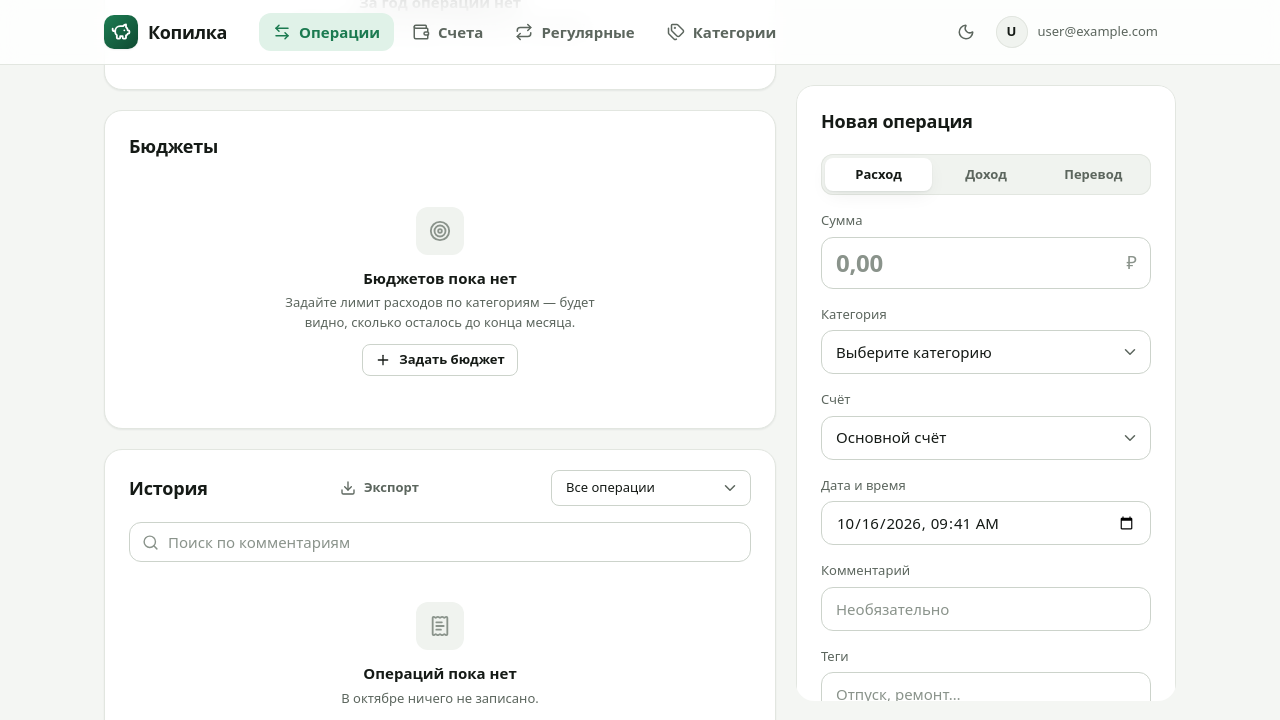
Test: BudgetPanel › sets a limit for a category from the shown month
This screenshot has width=1280, height=720.
(page scrolled)
Click the button "Задать бюджет".
click(440, 360)  # box [362, 344, 518, 376]
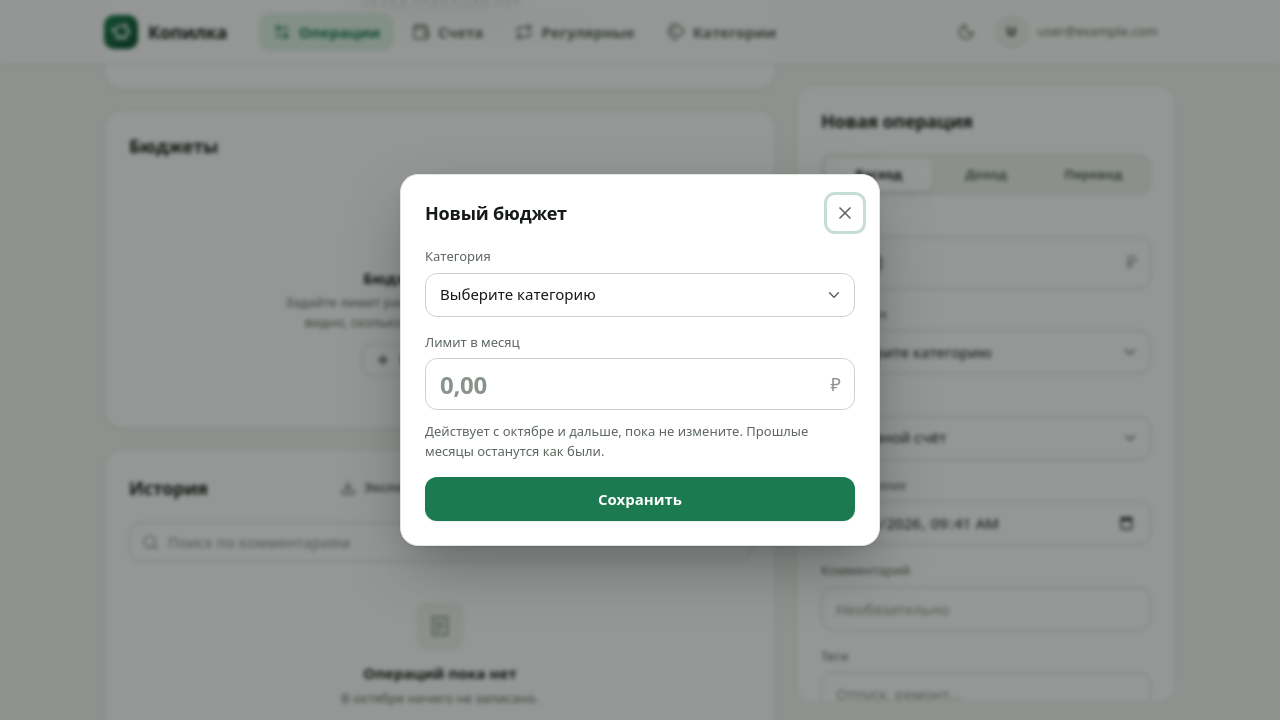
Select "Продукты" in the dropdown labelled "Категория" at [640, 294], box [425, 272, 855, 316]
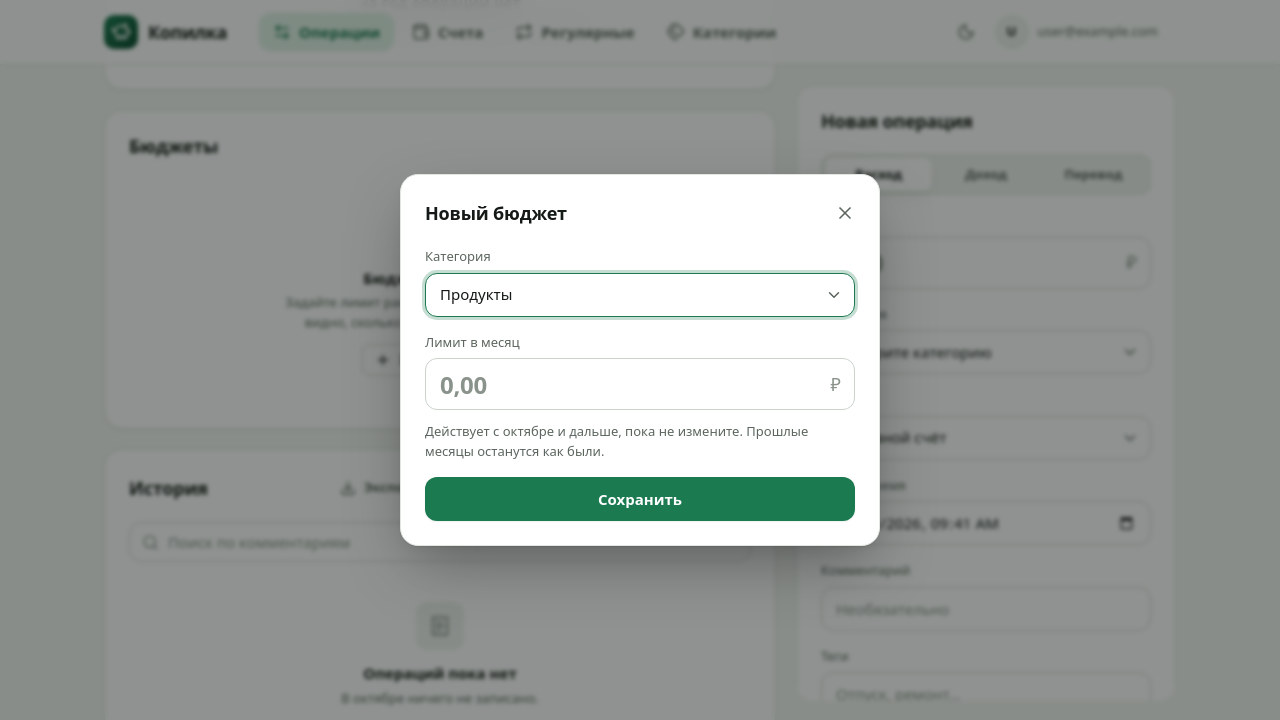
Type "10 000" into the field labelled "Лимит в месяц".
click(640, 384); type("10 000")  # box [425, 358, 855, 410]
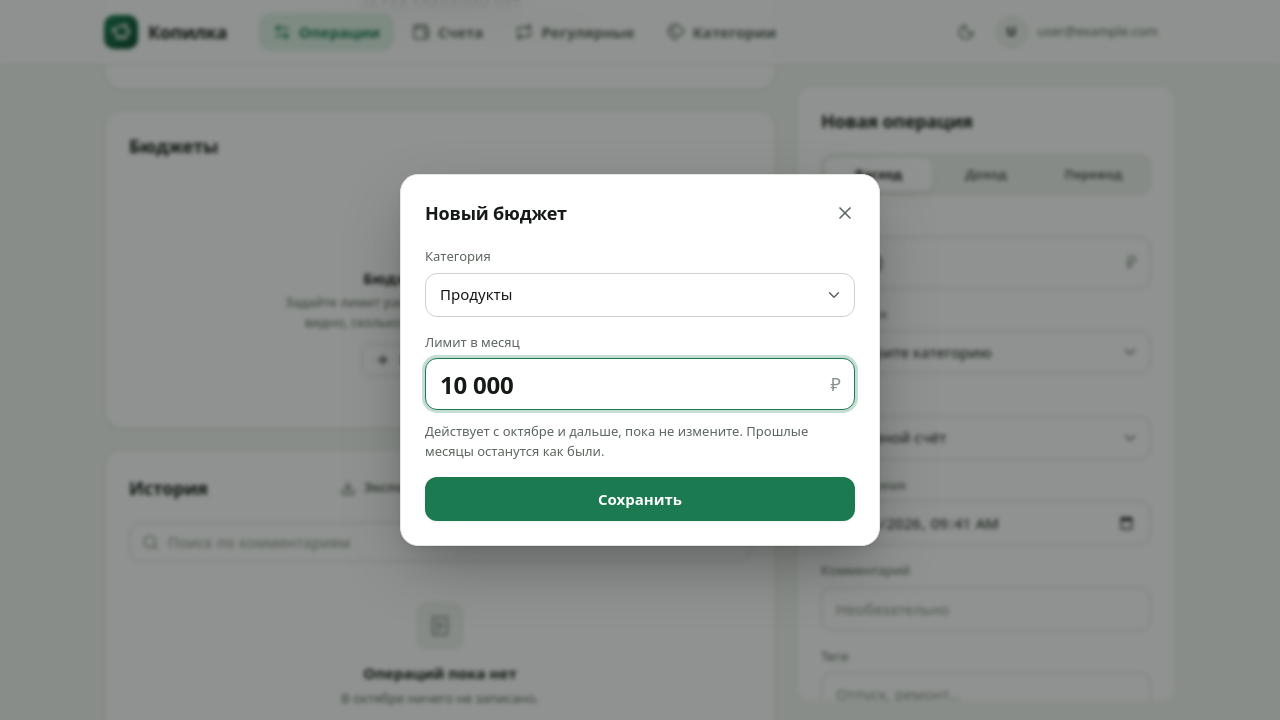
Click the button "Сохранить".
click(640, 499)  # box [425, 477, 855, 521]
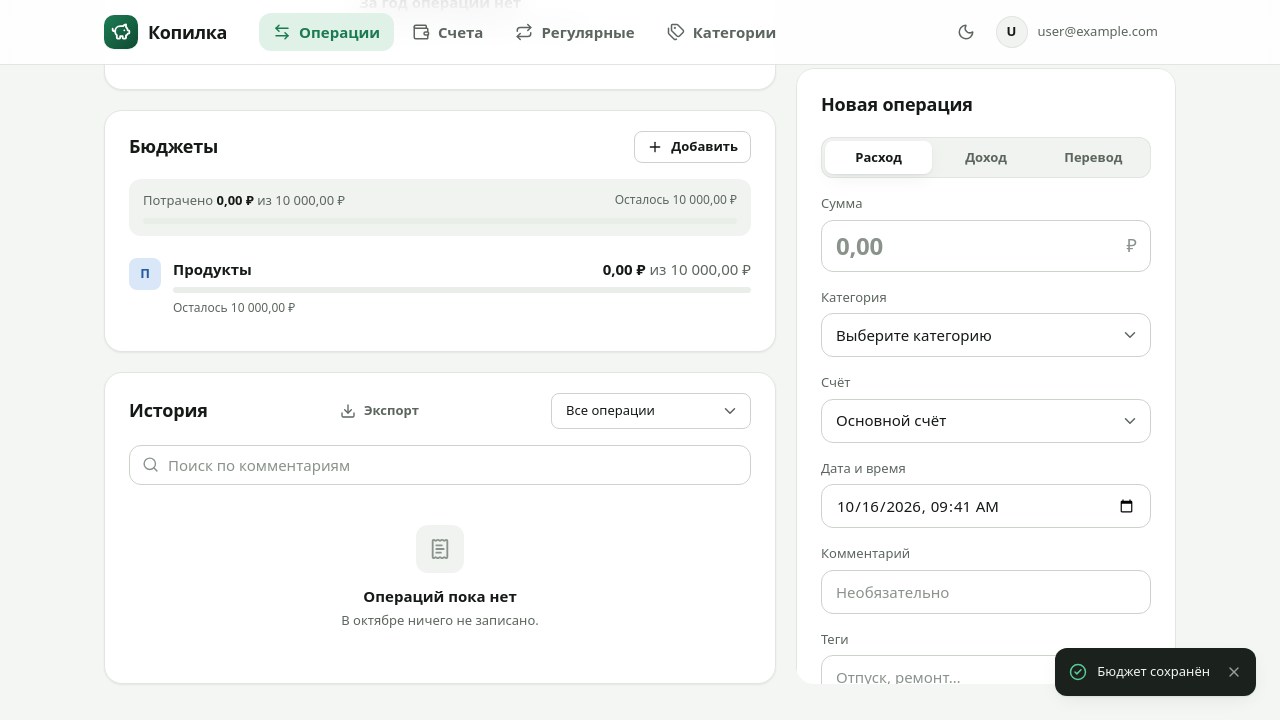
Check: the button "П Продукты 0,00 ₽ из 10 000,00 ₽ Осталось 10 000,00 ₽" is shown, box [119, 248, 761, 326]
